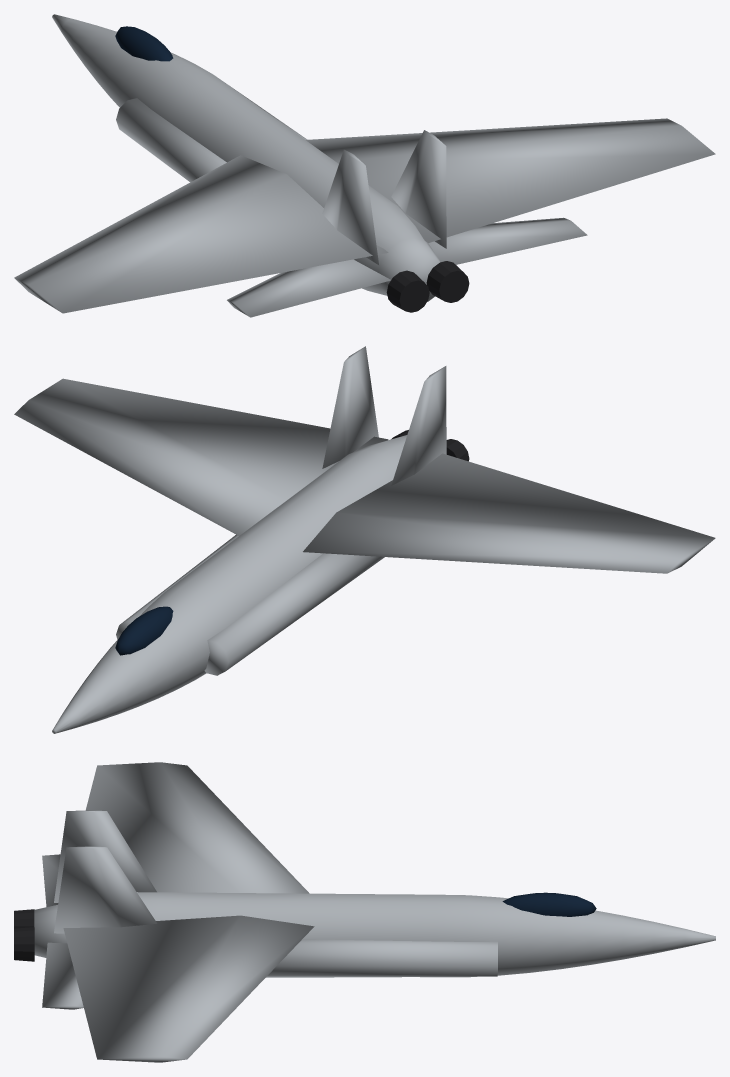
The picture shows the model from 3 angles, top to bottom: view 1: azimuth 30°, elevation 25°; view 2: azimuth 150°, elevation 25°; view 3: azimuth 270°, elevation 25°; orthographic projection. The views are drawn at different scales.
Parts seen in each view (by area): view 1: Body, Detail, Canopy; view 2: Body, Canopy; view 3: Body, Canopy, Detail.
Boxes of the visible parts, bbox=[...] form: Body: bbox=[14, 14, 715, 317]; Detail: bbox=[386, 261, 469, 312]; Canopy: bbox=[115, 26, 173, 61]; Body: bbox=[14, 346, 715, 733]; Canopy: bbox=[115, 606, 173, 655]; Body: bbox=[34, 762, 715, 1062]; Canopy: bbox=[502, 892, 596, 916]; Detail: bbox=[14, 909, 34, 961].
Bounding box in the file's own units: 19.5 × 4.46 × 19.67.
